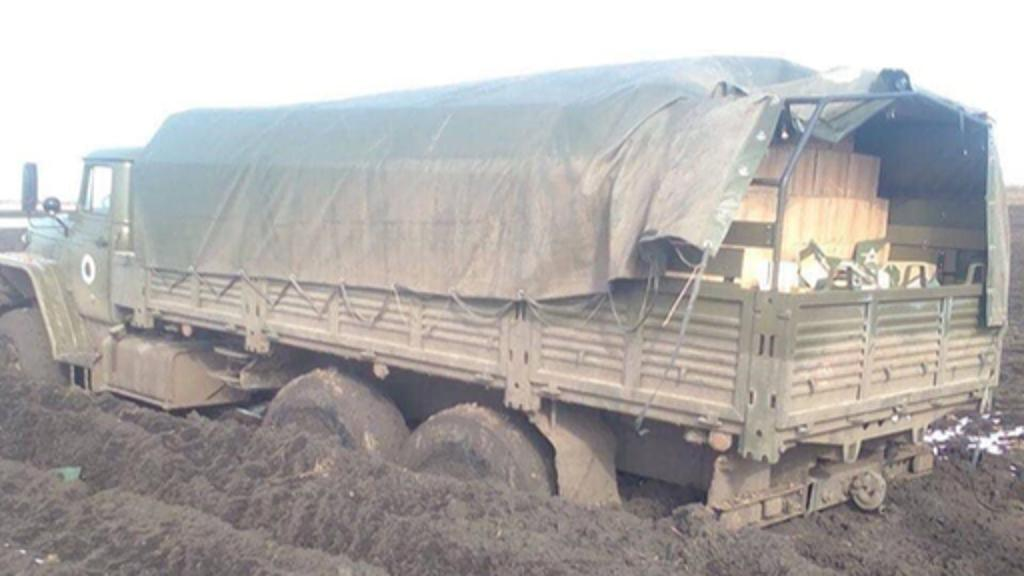TRUCK: (0, 44, 1010, 554)
